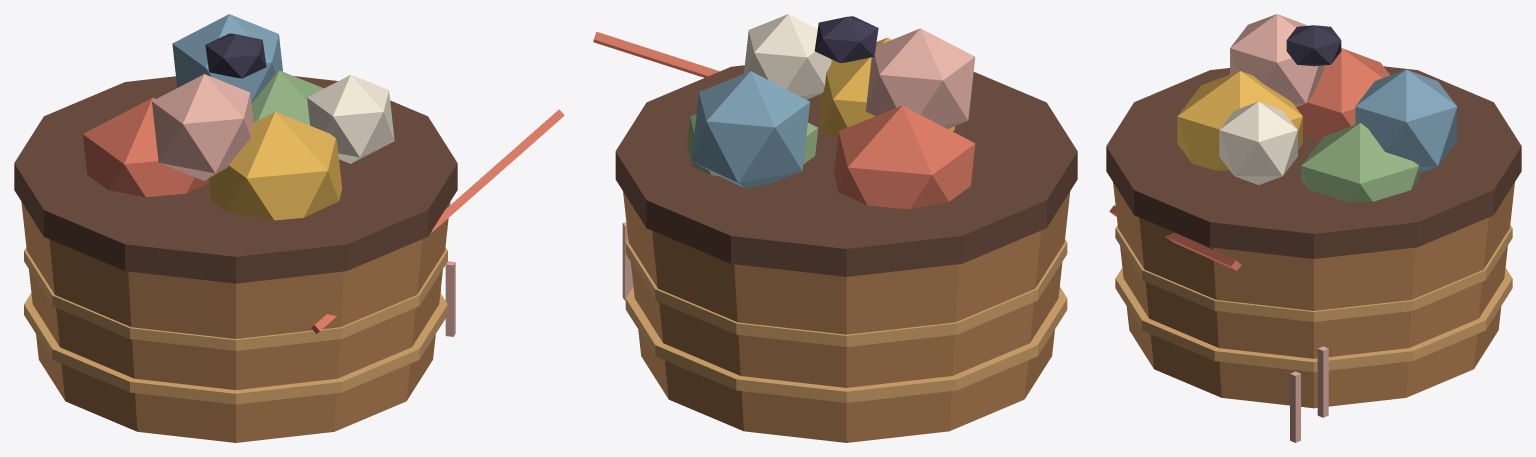
The model's file is yarn_basket.glb.
The picture shows the model from 3 angles, left to right: view 1: azimuth 30°, elevation 25°; view 2: azimuth 150°, elevation 25°; view 3: azimuth 270°, elevation 25°; orthographic projection. The views are drawn at different scales.
Visible parts, largest first — view 1: yarn_basket; view 2: yarn_basket; view 3: yarn_basket.
Boxes of the visible parts, x1,y1,x2,y2 form: yarn_basket: [14, 14, 564, 442]; yarn_basket: [593, 14, 1077, 442]; yarn_basket: [1106, 14, 1521, 442].
Size of the model in its own units: 0.5586 by 0.3845 by 0.45.
